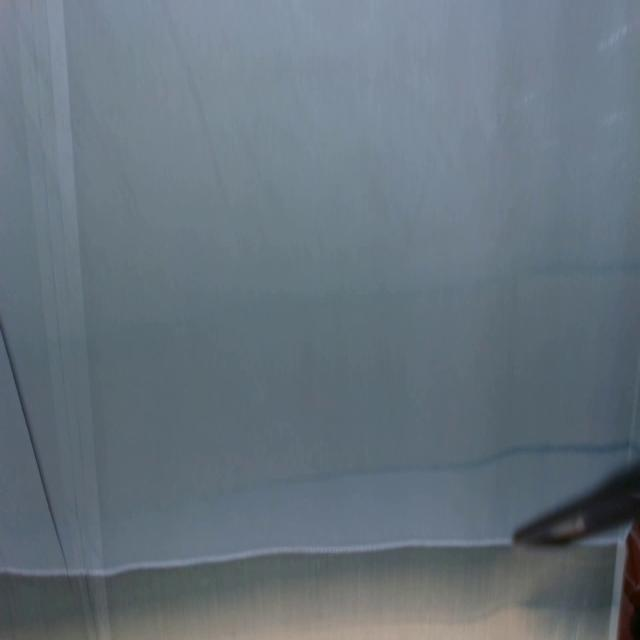color bleeding: (0, 262, 640, 520)
crease: (20, 0, 113, 637), (0, 315, 69, 575)
